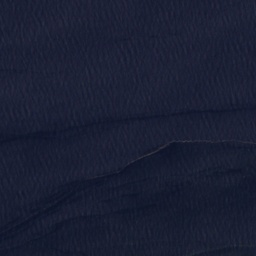Marine Debris: (0, 139, 234, 234)
